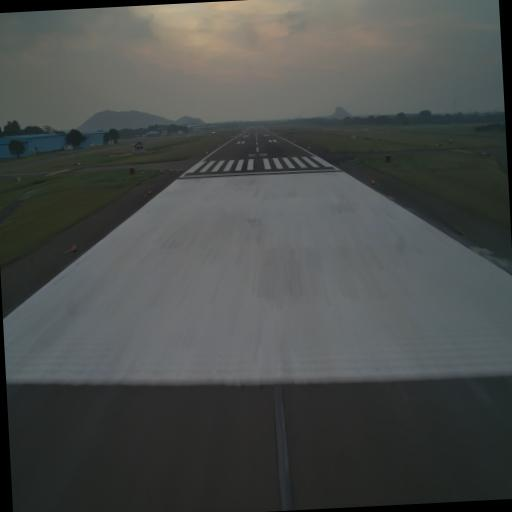on: (72, 241, 78, 252), (371, 177, 375, 186), (148, 190, 151, 198)
